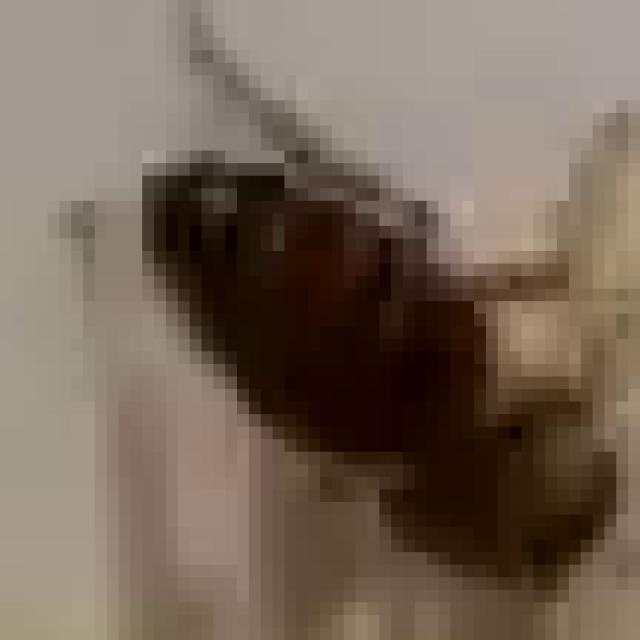honeybee: (89, 71, 608, 572)
